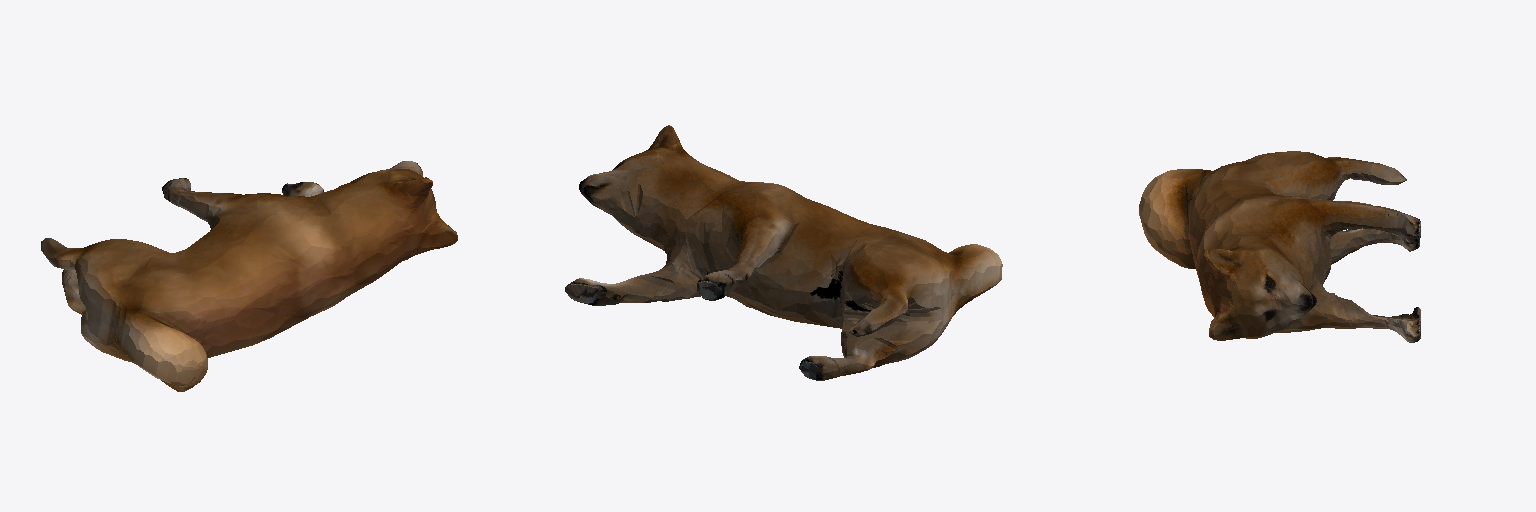
3 renders of one model, left to right at view 1: azimuth 30°, elevation 25°; view 2: azimuth 150°, elevation 25°; view 3: azimuth 270°, elevation 25°, orthographic.
Size of the model in its own units: 0.6536 by 0.2523 by 0.4541.
1 materials, 1 textured.